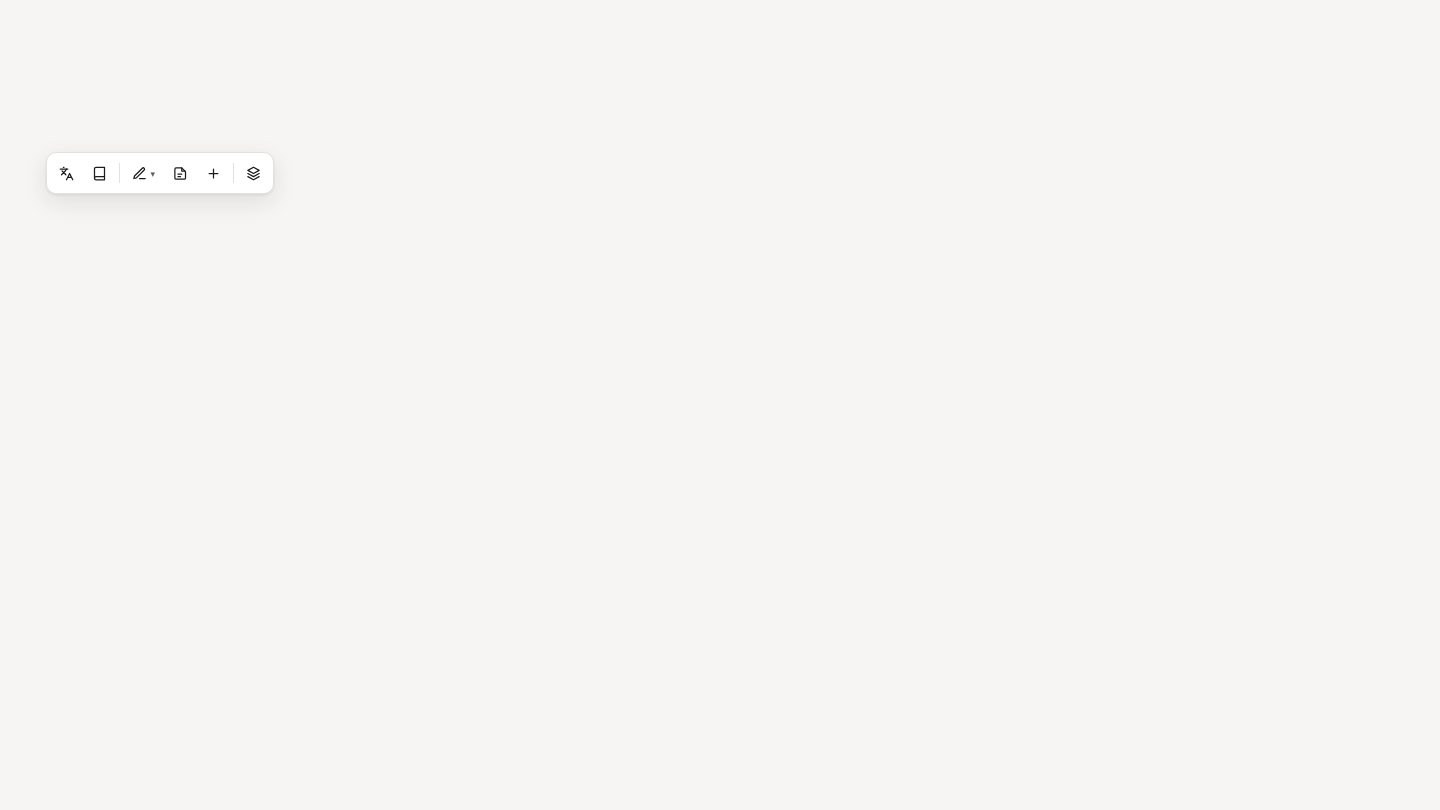
SelectionToolbar note modal › Note opens the "Note" dialog with the quoted selection
This screenshot has width=1440, height=810.
Click the button named "Note": (180, 173) [165,157,196,189]
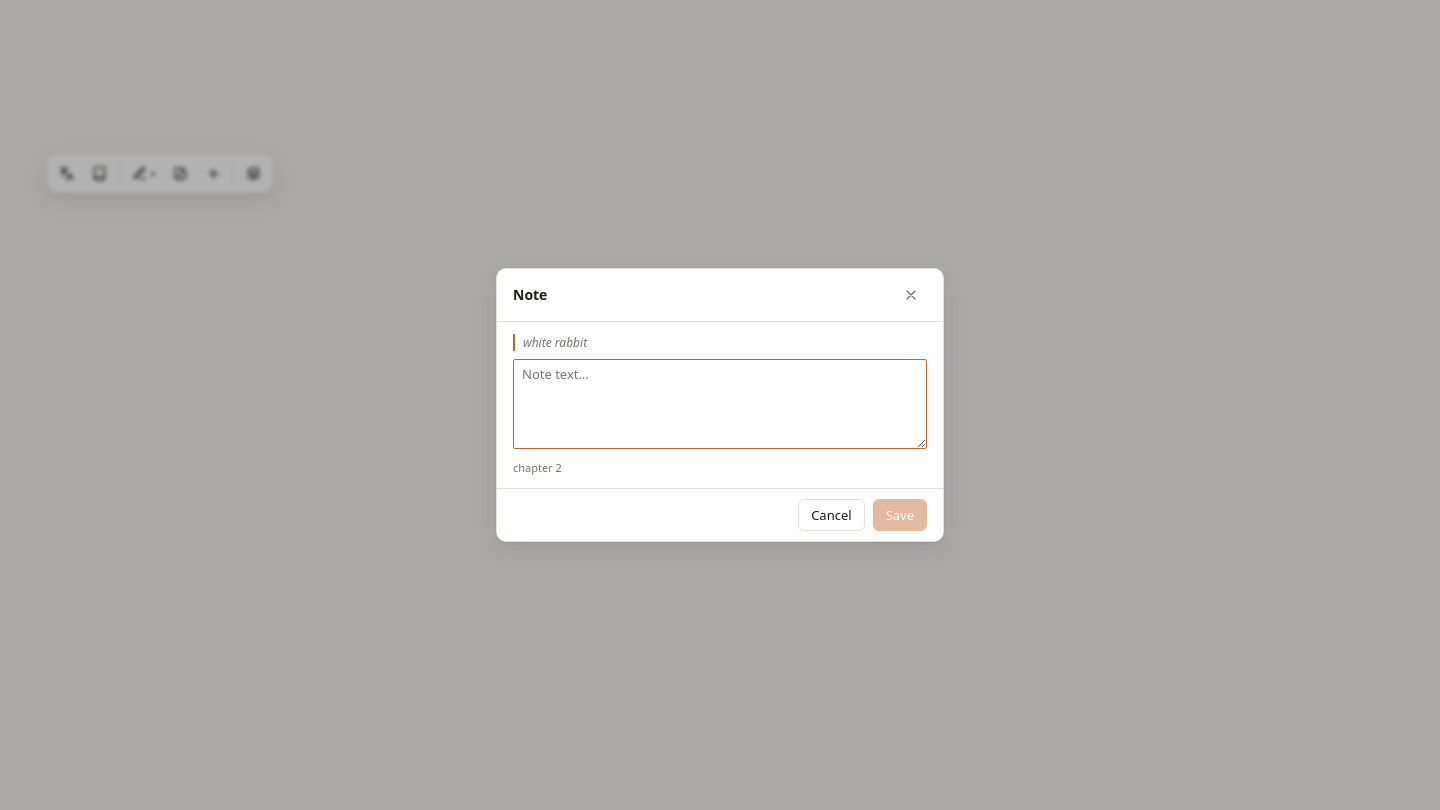
Now the dialog "Note" is shown, box [496,268,944,542]
Now the text "white rabbit" is shown, box [513,334,927,351]
Now the text box with test id "note-text" is empty, box [513,359,927,449]
